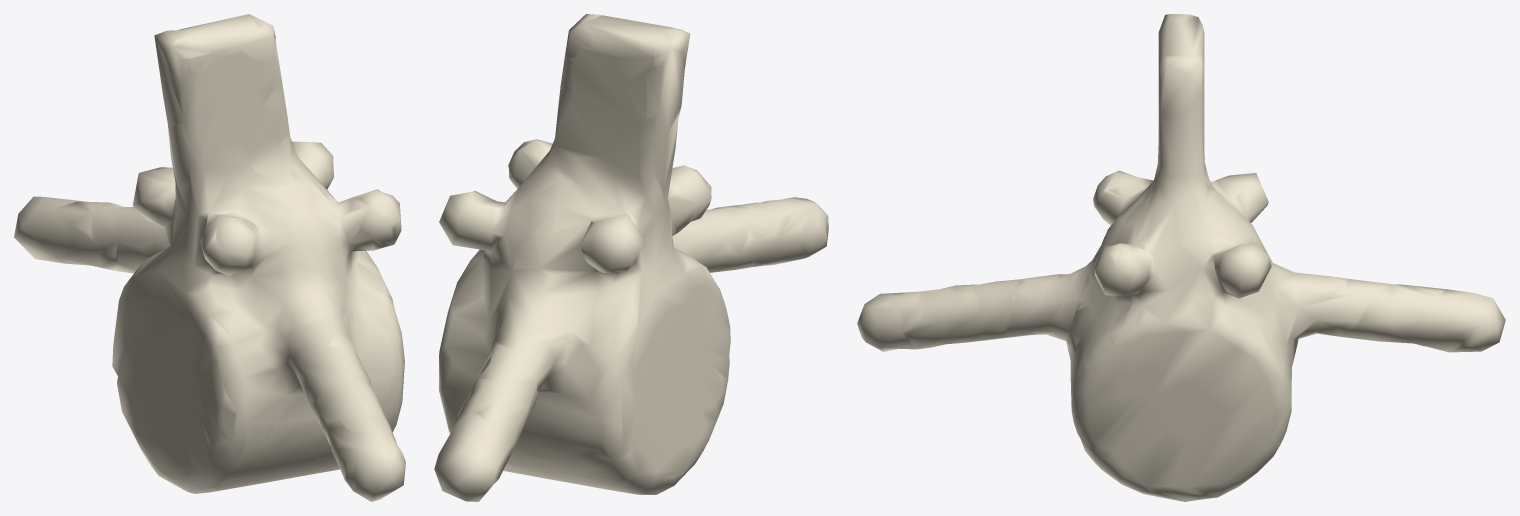
File: lumbar_2.glb
The picture shows the model from 3 angles, left to right: view 1: azimuth 30°, elevation 25°; view 2: azimuth 150°, elevation 25°; view 3: azimuth 270°, elevation 25°; orthographic projection. The views are drawn at different scales.
Visible parts, largest first — view 1: geometry_0; view 2: geometry_0; view 3: geometry_0.
Boxes of the visible parts, x1,y1,x2,y2 form: geometry_0: (14, 14, 405, 501); geometry_0: (434, 14, 828, 501); geometry_0: (857, 14, 1505, 501).
Bounding box in the file's own units: 0.1114 × 0.241 × 0.3407.
